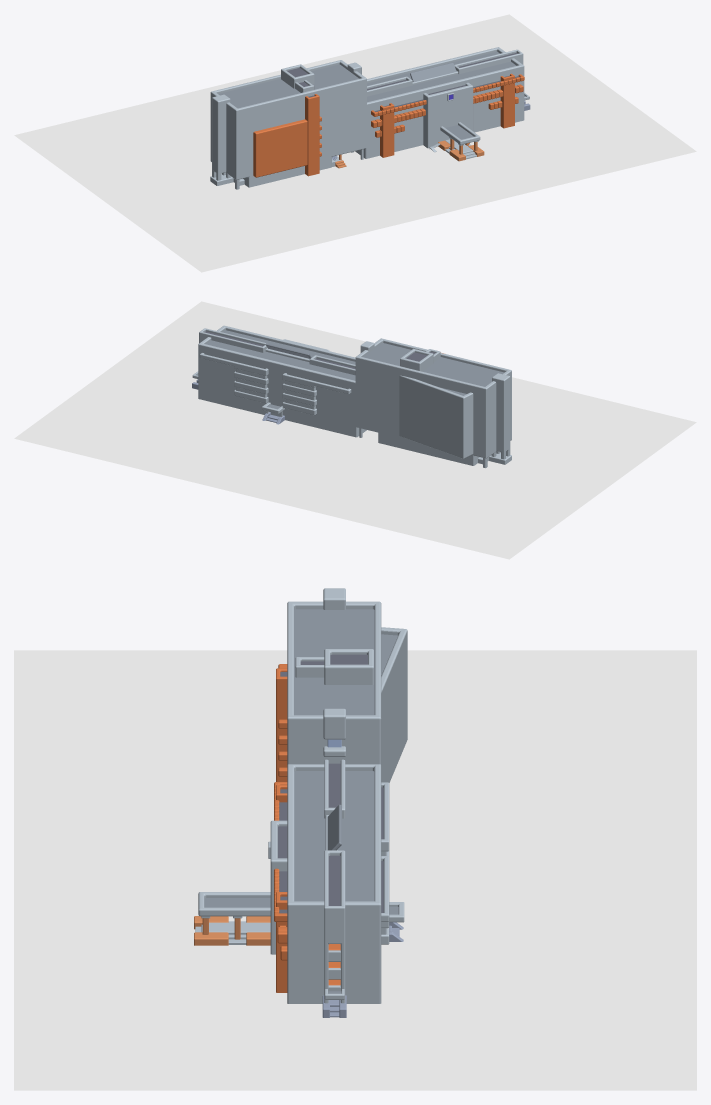
Rendered from aiu-building.glb.
The picture shows the model from 3 angles, top to bottom: view 1: azimuth 30°, elevation 25°; view 2: azimuth 150°, elevation 25°; view 3: azimuth 270°, elevation 25°; orthographic projection. The views are drawn at different scales.
Parts seen in each view (by area): view 1: floor, Cube.752, Cube.1116, Cube.058, Cube.042, Cube.057, Cube.106, Cube.105, Cube.043, Cube.059, Cube.114, Cube.052 (+3 smaller); view 2: floor, Cube.752, Cube.1116, Cube.339, Cube.057, Cube.106, Cube.105, Cube.059, Cube.104, Cube.244, Cube.1099, Cube.300; view 3: floor, Cube.1116, Cube.106, Cube.057, Cube.752, Cube.339, Cube.059, Cube.104, Cube.308, Cube.043, Cube.042, Cube.052.
Boxes of the visible parts, x1=… form: floor: x1=14, y1=14, x2=696, y2=272; Cube.752: x1=210, y1=60, x2=366, y2=187; Cube.1116: x1=355, y1=47, x2=524, y2=158; Cube.058: x1=253, y1=119, x2=307, y2=177; Cube.042: x1=423, y1=82, x2=473, y2=148; Cube.057: x1=218, y1=64, x2=359, y2=108; Cube.106: x1=367, y1=51, x2=516, y2=102; Cube.105: x1=212, y1=94, x2=230, y2=180; Cube.043: x1=305, y1=94, x2=319, y2=176; Cube.059: x1=454, y1=49, x2=523, y2=74; Cube.114: x1=380, y1=103, x2=394, y2=157; Cube.052: x1=500, y1=73, x2=514, y2=128; floor: x1=14, y1=301, x2=696, y2=559; Cube.752: x1=355, y1=338, x2=511, y2=465; Cube.1116: x1=198, y1=325, x2=366, y2=437; Cube.339: x1=399, y1=375, x2=473, y2=458; Cube.057: x1=363, y1=343, x2=504, y2=386; Cube.106: x1=206, y1=330, x2=355, y2=380; Cube.105: x1=492, y1=373, x2=510, y2=459; Cube.059: x1=199, y1=328, x2=267, y2=352; Cube.104: x1=400, y1=348, x2=433, y2=371; Cube.244: x1=309, y1=355, x2=355, y2=375; Cube.1099: x1=199, y1=353, x2=268, y2=375; Cube.300: x1=282, y1=373, x2=351, y2=394; floor: x1=14, y1=650, x2=696, y2=1090; Cube.1116: x1=287, y1=764, x2=381, y2=1003; Cube.106: x1=294, y1=771, x2=374, y2=901; Cube.057: x1=294, y1=609, x2=374, y2=715; Cube.752: x1=287, y1=601, x2=381, y2=764; Cube.339: x1=381, y1=627, x2=407, y2=782; Cube.059: x1=324, y1=850, x2=345, y2=1003; Cube.104: x1=324, y1=649, x2=373, y2=684; Cube.308: x1=198, y1=892, x2=270, y2=916; Cube.043: x1=276, y1=668, x2=287, y2=781; Cube.042: x1=270, y1=820, x2=287, y2=954; Cube.052: x1=276, y1=892, x2=287, y2=992.
Bounding box in the file's own units: 29.11 × 4.97 × 19.08.
